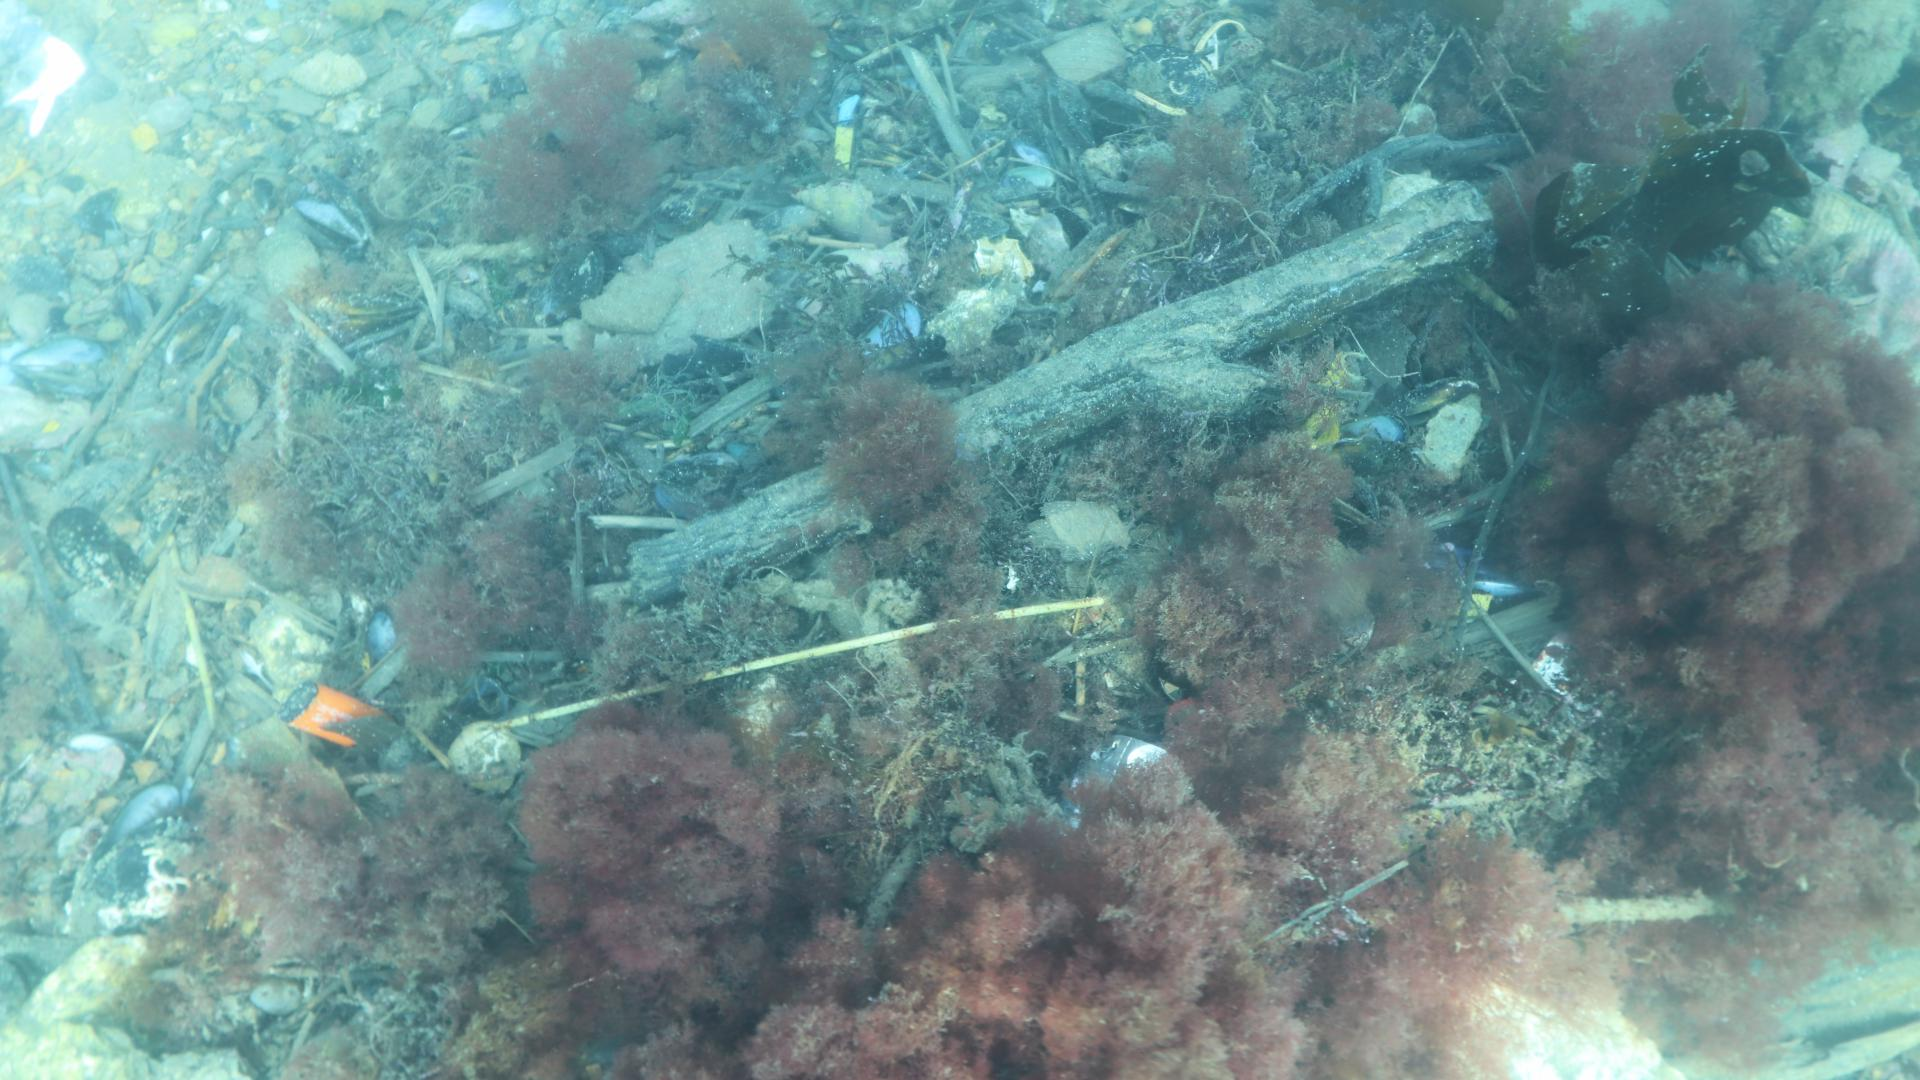wood: (622, 177, 1498, 605)
